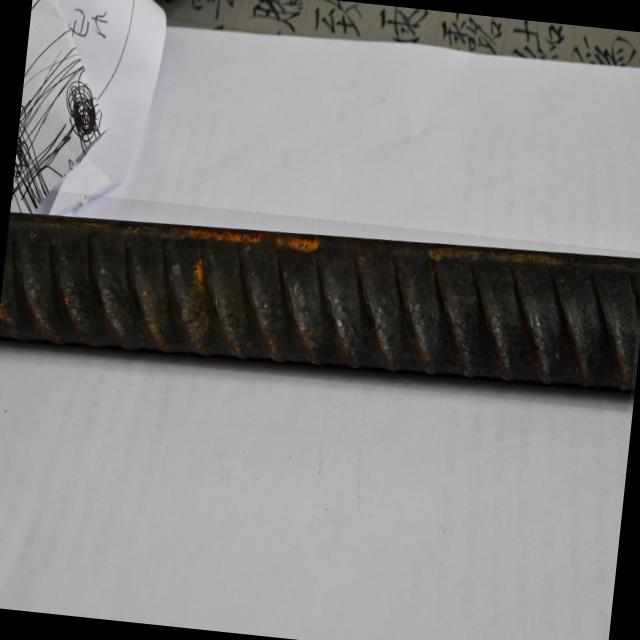ribbed bar: (0, 186, 640, 412)
